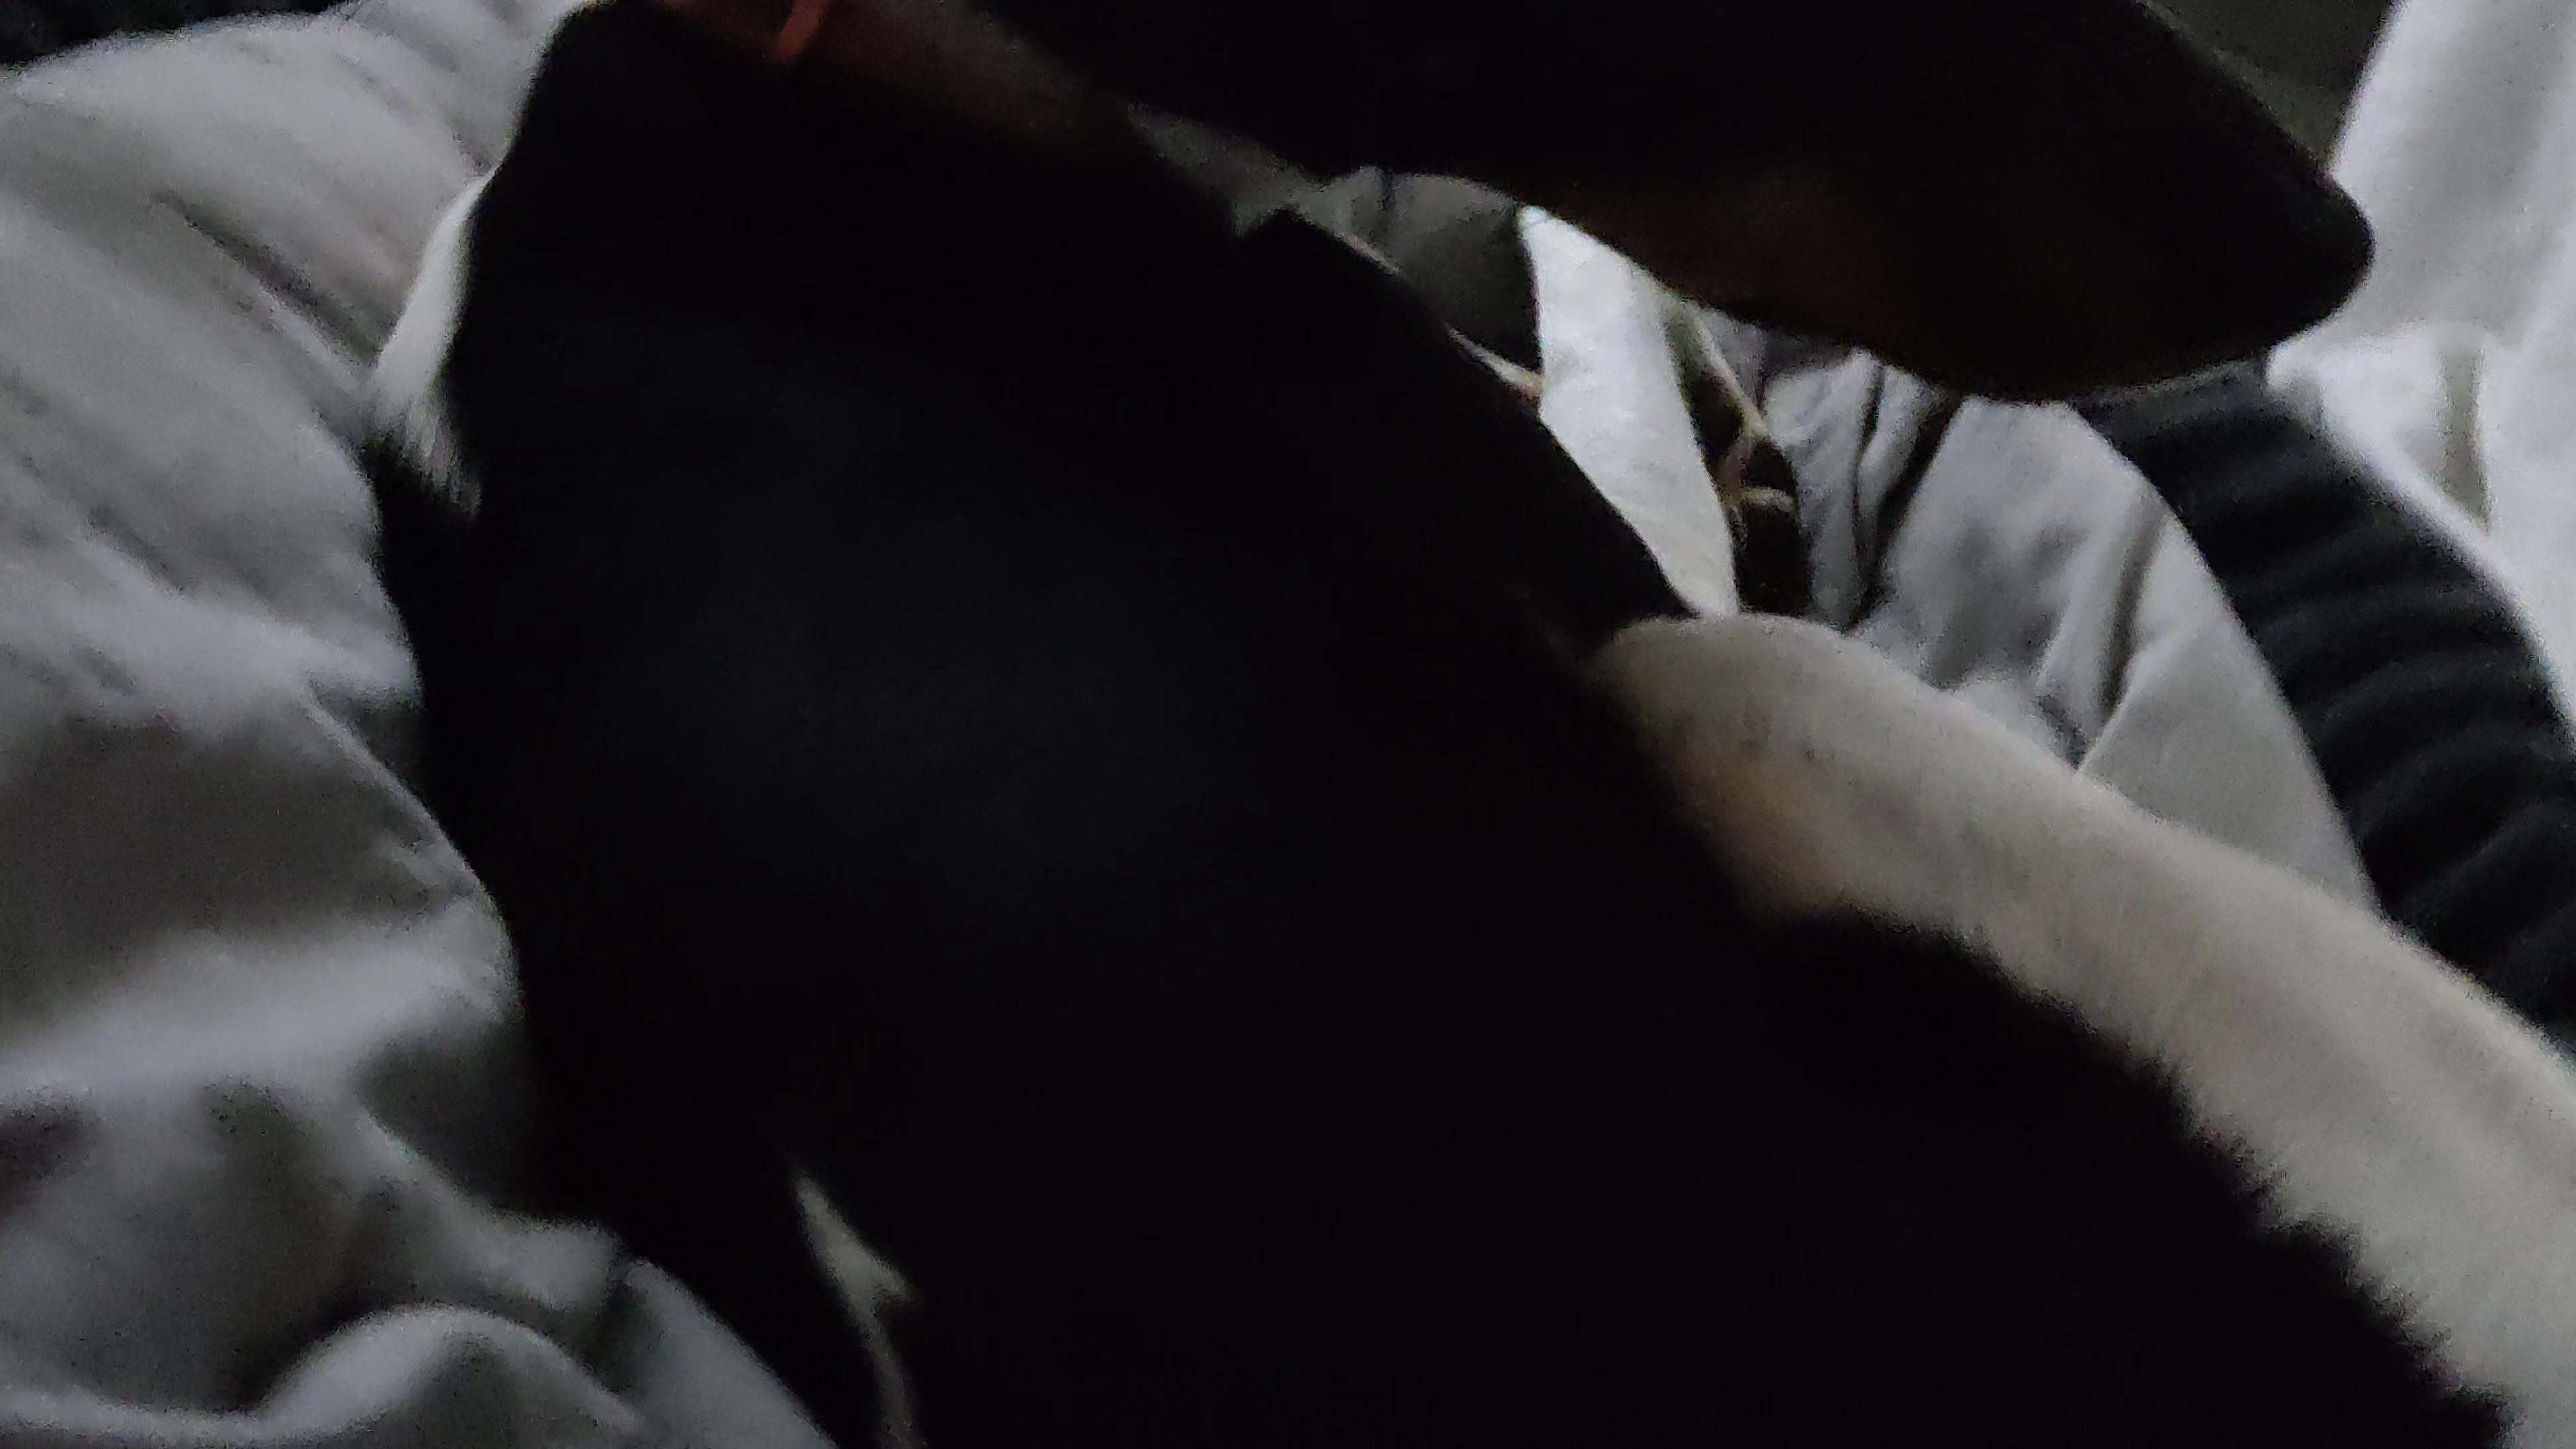Dog: (331, 0, 2576, 1449)
